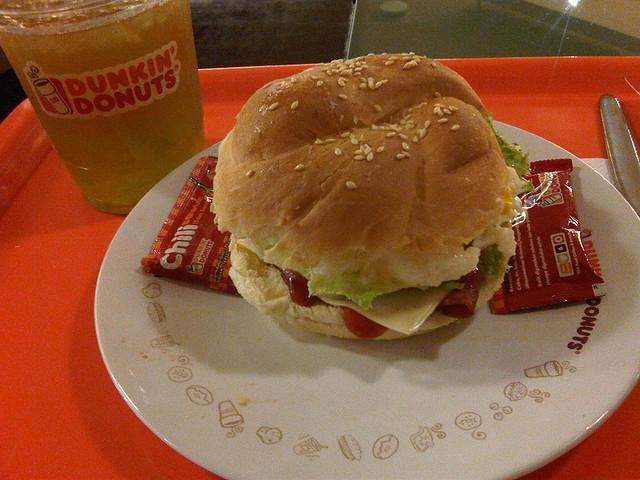lettuce: (302, 264, 401, 311), (486, 113, 536, 196), (477, 243, 513, 280)
